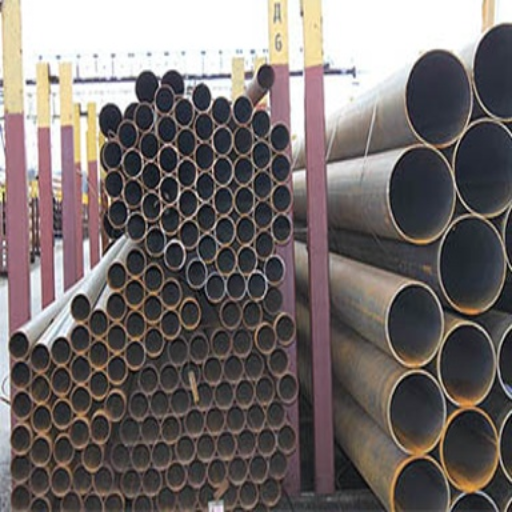Circle: (442, 216, 503, 308), (410, 52, 468, 140), (392, 149, 452, 234), (456, 125, 510, 210), (389, 284, 442, 364), (389, 375, 443, 447), (441, 413, 495, 485), (441, 328, 492, 400), (477, 24, 511, 115), (393, 460, 446, 508), (73, 445, 103, 492), (128, 248, 163, 287), (52, 324, 89, 359), (202, 460, 225, 507), (32, 403, 71, 430), (105, 200, 128, 234), (500, 330, 511, 392), (501, 415, 511, 478), (101, 104, 120, 137), (455, 495, 495, 510), (272, 213, 291, 242), (107, 261, 126, 290), (135, 73, 157, 98), (156, 116, 176, 143), (271, 155, 291, 182), (213, 187, 232, 215), (127, 212, 146, 240), (179, 189, 197, 218), (195, 113, 214, 140), (233, 127, 252, 154), (235, 157, 254, 184), (160, 176, 179, 203), (272, 184, 291, 211), (164, 240, 183, 267), (188, 260, 207, 287), (31, 344, 50, 371), (31, 437, 50, 464), (219, 483, 237, 511), (271, 124, 290, 150), (276, 316, 295, 342), (145, 327, 164, 353), (11, 361, 30, 387), (31, 376, 50, 402), (179, 157, 196, 186), (96, 465, 113, 494), (252, 109, 270, 136), (160, 147, 178, 174), (161, 205, 179, 232), (180, 220, 198, 247), (145, 227, 163, 254), (256, 231, 274, 258), (130, 393, 148, 420), (161, 69, 183, 91), (102, 143, 122, 167), (9, 332, 29, 356), (254, 171, 271, 199), (141, 192, 160, 217), (72, 357, 91, 382), (72, 387, 91, 412), (52, 467, 71, 492), (140, 133, 158, 159), (196, 173, 214, 199), (267, 256, 285, 282), (228, 273, 246, 299), (162, 280, 180, 306), (222, 301, 240, 327), (107, 392, 125, 418), (92, 413, 110, 439), (229, 457, 247, 483), (215, 127, 232, 154), (217, 217, 234, 244), (72, 295, 89, 322), (12, 425, 29, 452), (127, 313, 146, 337), (124, 151, 142, 176), (125, 279, 143, 304), (233, 329, 251, 354), (270, 349, 288, 374), (193, 385, 211, 410), (13, 391, 31, 416), (144, 469, 162, 494), (119, 121, 136, 147), (253, 141, 270, 167), (255, 201, 272, 227), (182, 300, 199, 326), (258, 325, 275, 351), (90, 340, 107, 366), (108, 356, 125, 382), (219, 433, 236, 459), (168, 461, 185, 487), (215, 157, 231, 184), (197, 204, 215, 228), (239, 216, 255, 243), (217, 248, 235, 272), (161, 312, 179, 336), (204, 359, 222, 383), (236, 381, 254, 405), (185, 411, 203, 435), (279, 425, 295, 452), (178, 438, 196, 462), (31, 468, 49, 492), (122, 471, 140, 495), (178, 129, 195, 154), (237, 188, 254, 213), (143, 296, 160, 321), (244, 301, 261, 326), (109, 325, 126, 350), (163, 415, 180, 440), (251, 456, 268, 481), (250, 272, 266, 298), (171, 337, 187, 363), (212, 99, 230, 122), (12, 457, 30, 480), (196, 144, 213, 168), (125, 180, 142, 204), (266, 288, 283, 312), (213, 332, 230, 356), (225, 357, 242, 381), (71, 420, 88, 444), (259, 431, 276, 455), (188, 461, 205, 485), (12, 485, 29, 509), (242, 481, 257, 508), (107, 171, 123, 196), (91, 310, 107, 335), (191, 335, 207, 360), (248, 405, 264, 430), (55, 437, 71, 462), (179, 488, 197, 510), (61, 493, 83, 511), (127, 343, 144, 366), (161, 365, 178, 388), (140, 368, 157, 391), (240, 245, 255, 271), (54, 369, 69, 395), (92, 371, 108, 395), (280, 375, 296, 399), (257, 379, 273, 403), (216, 384, 232, 408), (239, 432, 255, 456), (199, 435, 215, 459), (113, 444, 129, 468), (263, 480, 279, 504), (144, 163, 159, 188), (209, 275, 224, 300), (107, 295, 124, 317), (122, 420, 139, 442), (200, 236, 216, 259), (172, 390, 188, 413), (207, 409, 223, 432), (248, 353, 262, 379), (182, 364, 200, 384), (235, 99, 252, 120), (269, 404, 286, 425), (137, 105, 152, 128), (229, 408, 244, 431), (135, 444, 150, 467), (155, 444, 170, 467), (160, 488, 175, 511), (176, 101, 192, 122), (259, 65, 274, 87), (153, 392, 168, 414), (144, 417, 159, 439), (157, 87, 171, 110), (195, 87, 210, 108), (272, 456, 286, 478), (107, 493, 124, 511), (85, 493, 101, 510), (135, 495, 152, 511), (505, 217, 511, 262), (32, 497, 51, 511), (125, 103, 138, 118)
